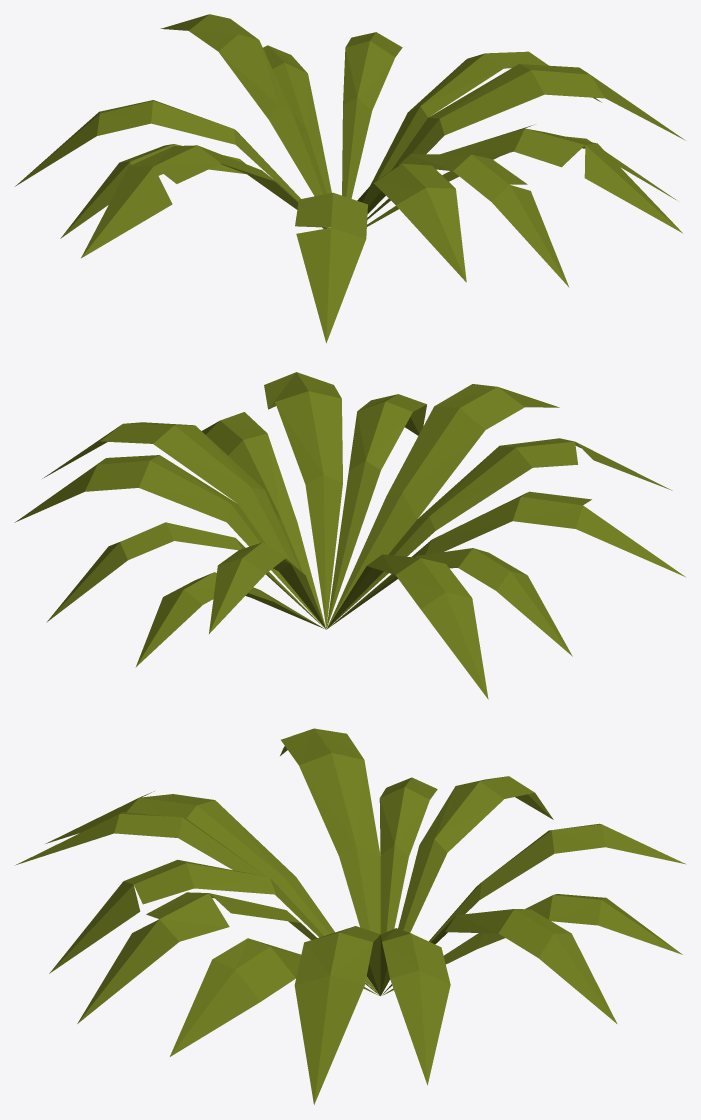
File: Plant_10.fbx
3 views of the same model, one above another, from view 1: azimuth 30°, elevation 25°; view 2: azimuth 150°, elevation 25°; view 3: azimuth 270°, elevation 25° (orthographic). The views are drawn at different scales.
Parts seen in each view (by area): view 1: Plant_10; view 2: Plant_10; view 3: Plant_10.
Boxes of the visible parts, bbox=[...] form: Plant_10: bbox=[15, 14, 685, 343]; Plant_10: bbox=[14, 372, 685, 699]; Plant_10: bbox=[15, 728, 685, 1104].
Bounding box in the file's own units: 1.53 × 0.3697 × 1.4.
